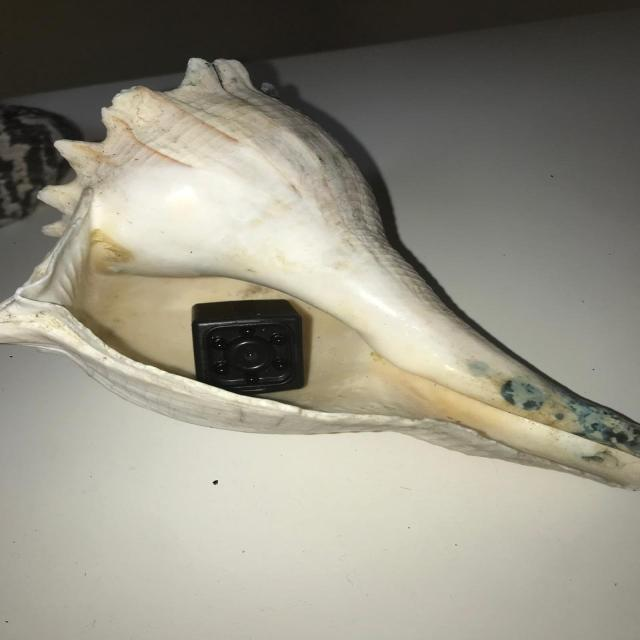hidden camera: (230, 341, 273, 370)
